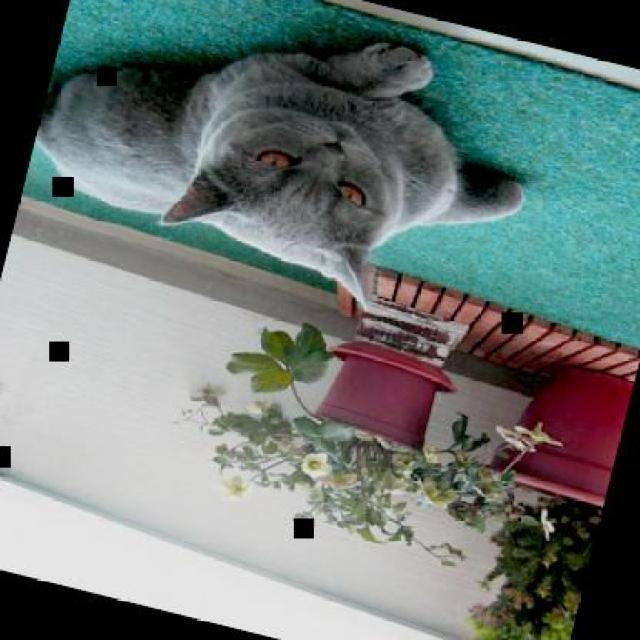cat: (15, 0, 554, 343)
